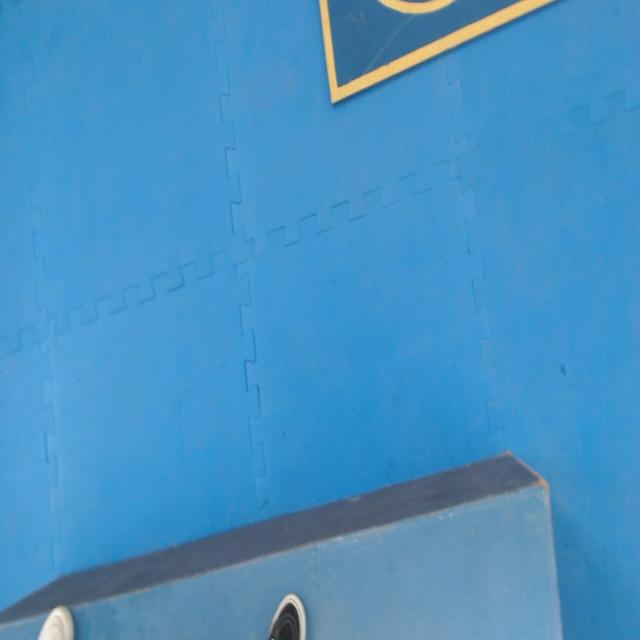base_pouso: (319, 0, 560, 105)
